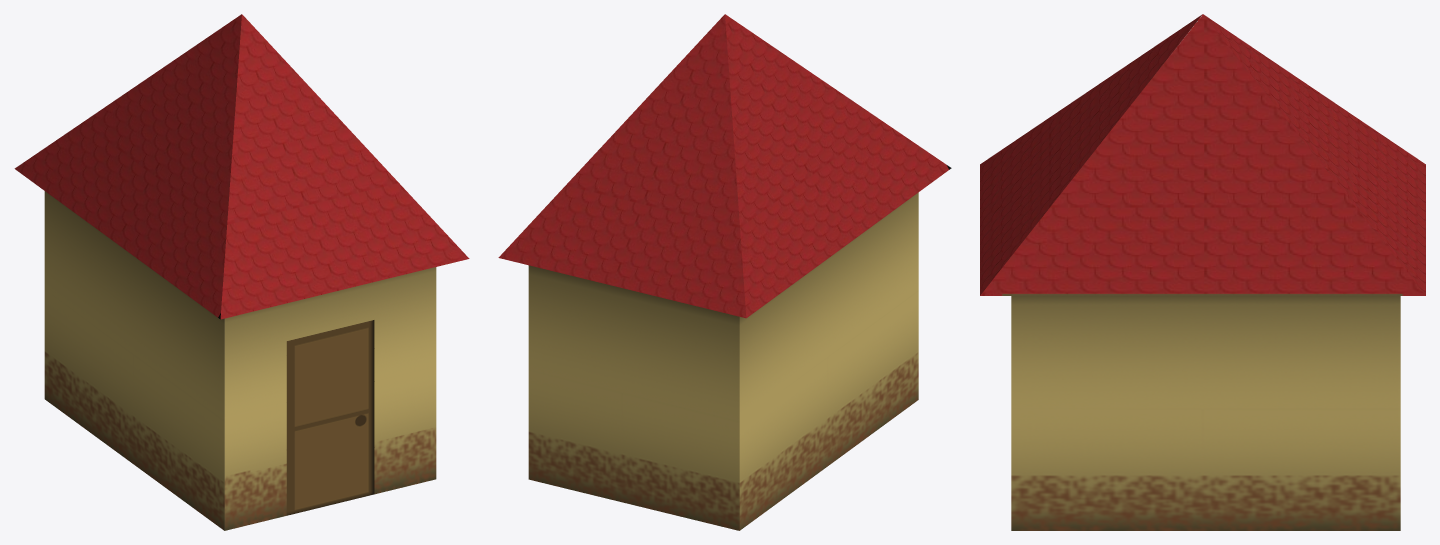
Rendered from Casa.FBX.
3 views of the same model, side by side, from view 1: azimuth 30°, elevation 25°; view 2: azimuth 150°, elevation 25°; view 3: azimuth 270°, elevation 25° (orthographic). The views are drawn at different scales.
Visible parts, largest first — view 1: Box02; view 2: Box02; view 3: Box02.
Part boxes in pixels (left/top/right/bottom): Box02: left=14, top=14, right=469, bottom=530; Box02: left=498, top=14, right=951, bottom=530; Box02: left=980, top=14, right=1425, bottom=530.
Size of the model in its own units: 454 by 742 by 650.
